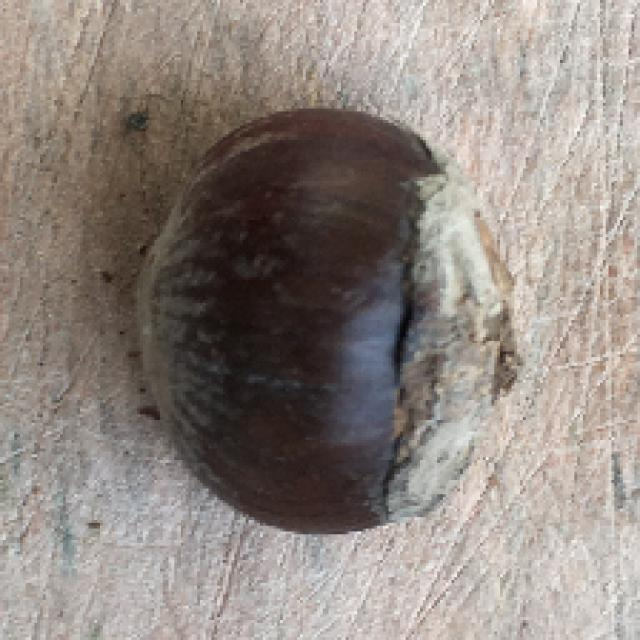damagedHazelnut: (128, 99, 532, 542)
